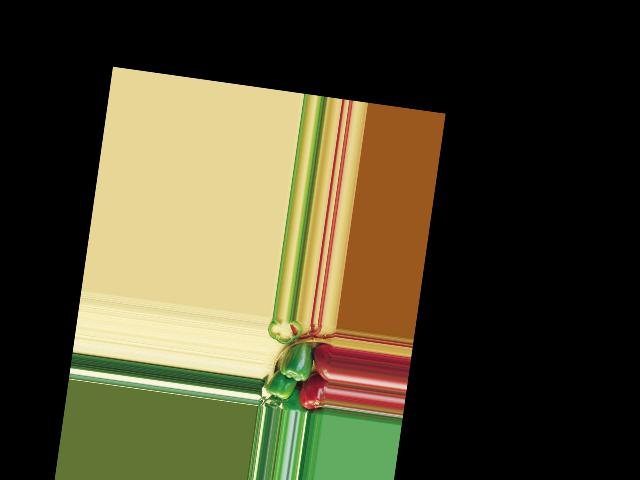bell_pepper: (311, 342, 333, 381)
